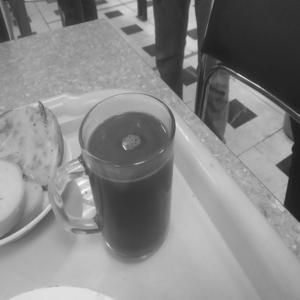cheese_sandwich: (2, 92, 67, 203)
coffee: (60, 84, 192, 259)
